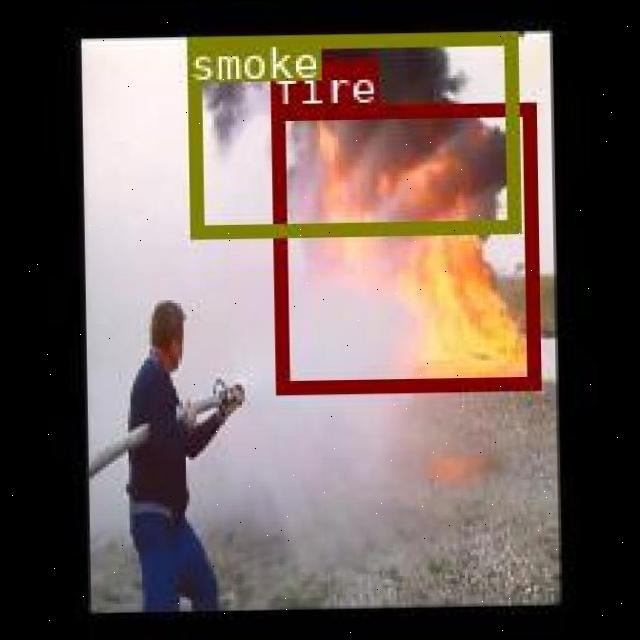fire: (269, 101, 536, 390)
smoke: (186, 31, 517, 236)
